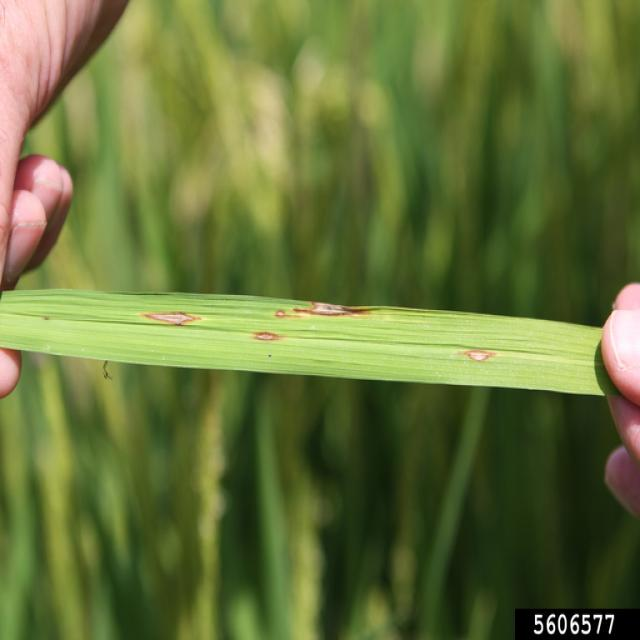Brown spot: (134, 308, 202, 326), (460, 344, 508, 368), (308, 302, 382, 313), (251, 328, 292, 342), (274, 309, 305, 319), (40, 312, 56, 323), (263, 349, 278, 360)
